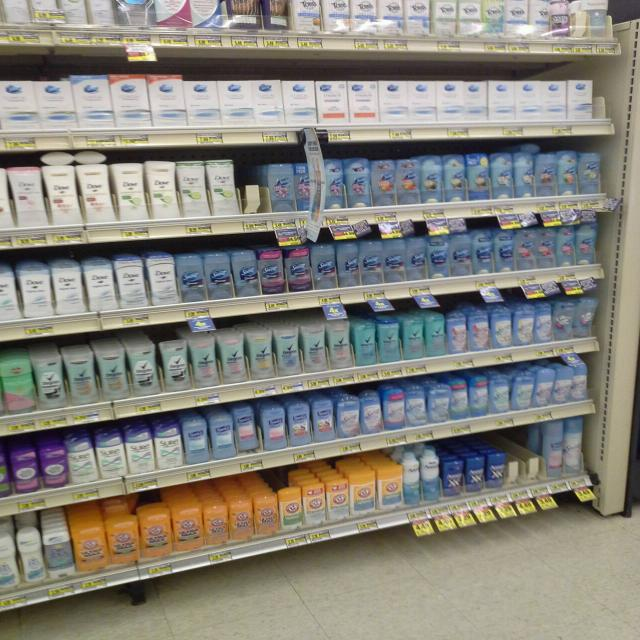empty: (235, 149, 269, 214), (505, 427, 541, 483)
